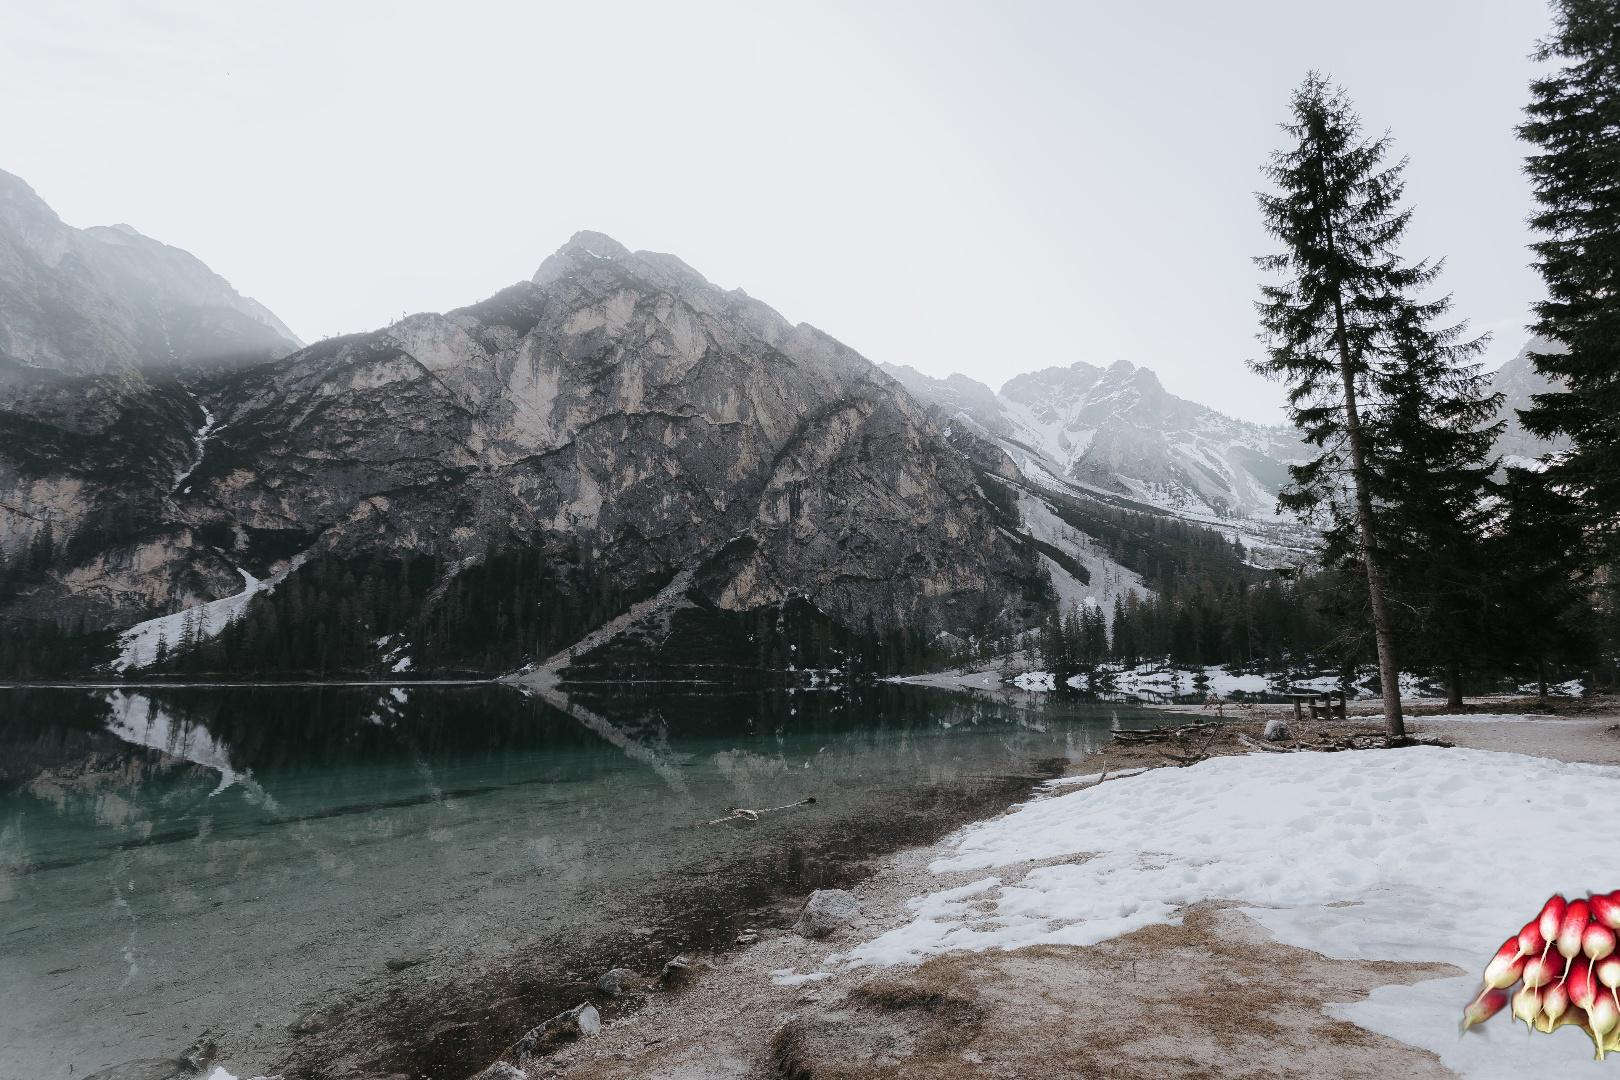biological: (1458, 884, 1620, 1060)
